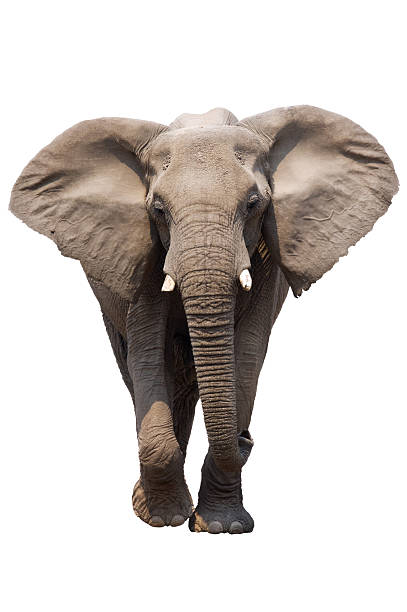africanelephant: (130, 127, 282, 326)
